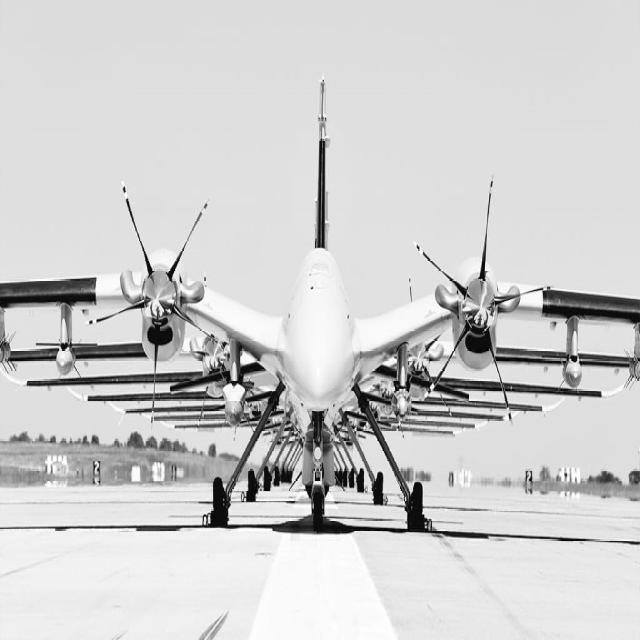iha: (0, 6, 639, 531)
